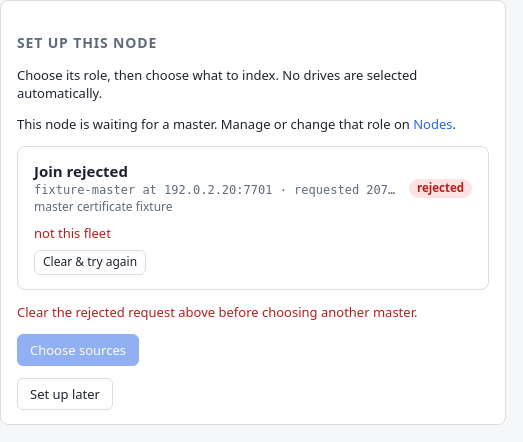
Test: pending and rejected requests are visible and can be cleared
This screenshot has width=523, height=442.
Check: the text "Join rejected" is shown, box [34, 161, 128, 181]
Check: the button "Choose sources" is disabled, box [17, 334, 139, 366]
Click the button "Clear & try again". click: (90, 262)
box: [34, 250, 146, 275]
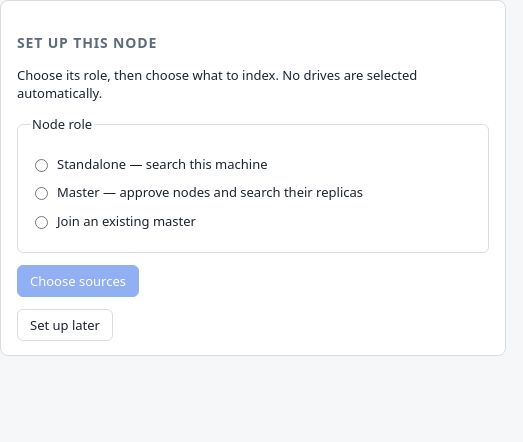
Check: the radio button labelled "Standalone — search this machine" is shown, box [35, 159, 48, 172]
